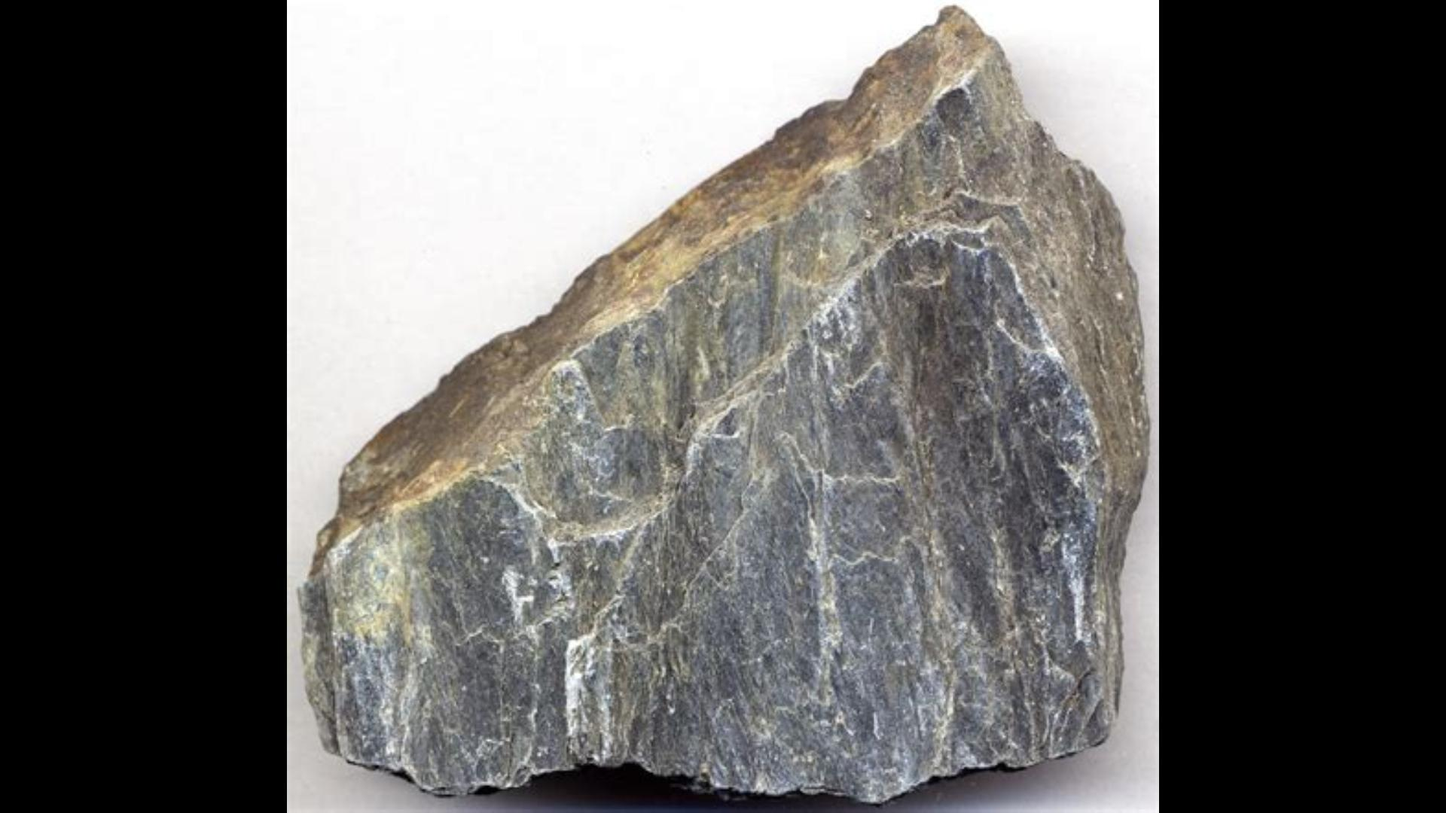rock: (302, 7, 1144, 800)
